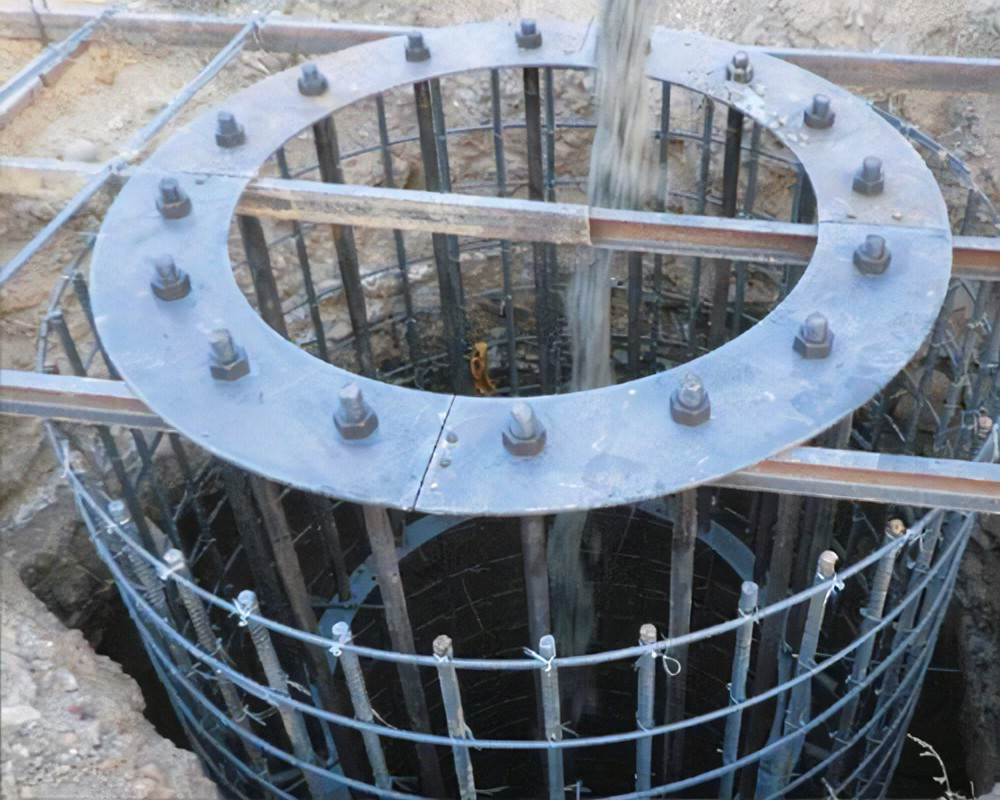bolt_b: (495, 409, 551, 458), (330, 397, 381, 446), (786, 319, 838, 365), (665, 385, 715, 430), (145, 260, 195, 305), (204, 340, 252, 382), (149, 184, 195, 224)
vague: (849, 236, 895, 276), (209, 116, 251, 151), (291, 63, 331, 98), (848, 163, 889, 197), (797, 100, 839, 133), (507, 22, 549, 52), (720, 53, 757, 87), (399, 37, 434, 66)
